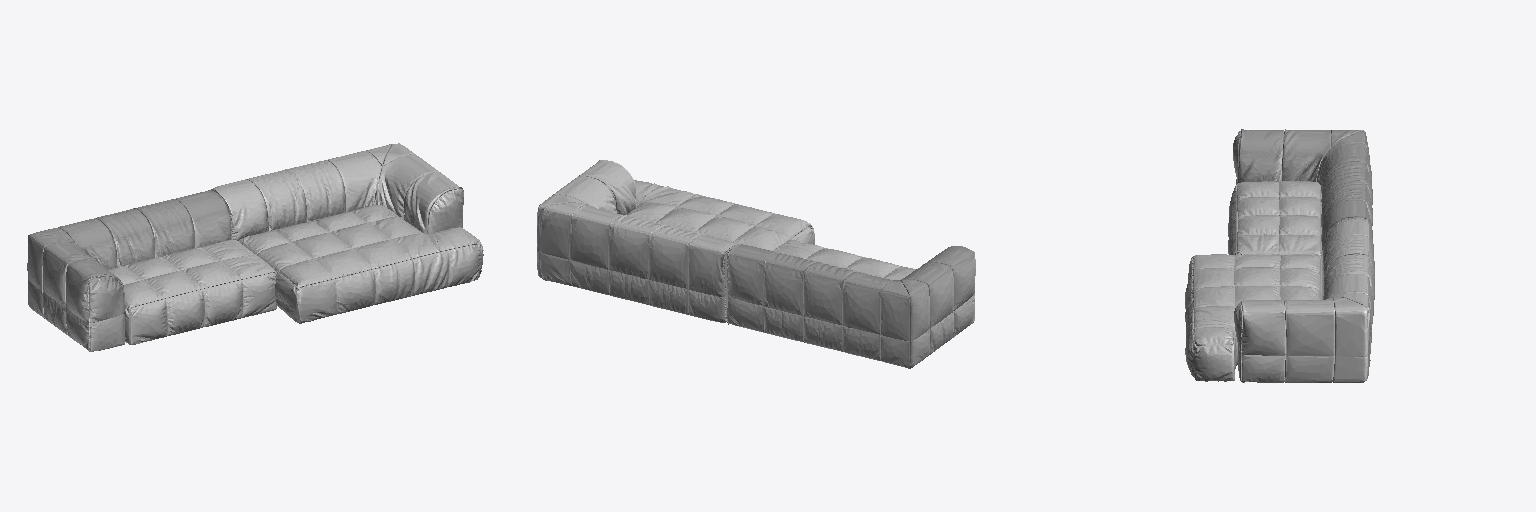
3 views of the same model, side by side, from view 1: azimuth 30°, elevation 25°; view 2: azimuth 150°, elevation 25°; view 3: azimuth 270°, elevation 25° (orthographic).
Visible parts, largest first — view 1: solid_001; view 2: solid_001; view 3: solid_001.
Boxes of the visible parts, <box> form: solid_001: <box>27,143,483,351</box>; solid_001: <box>537,160,975,368</box>; solid_001: <box>1185,129,1374,382</box>.
Bounding box in the file's own units: 2 × 0.3845 × 0.8555.
1 materials, 1 textured.